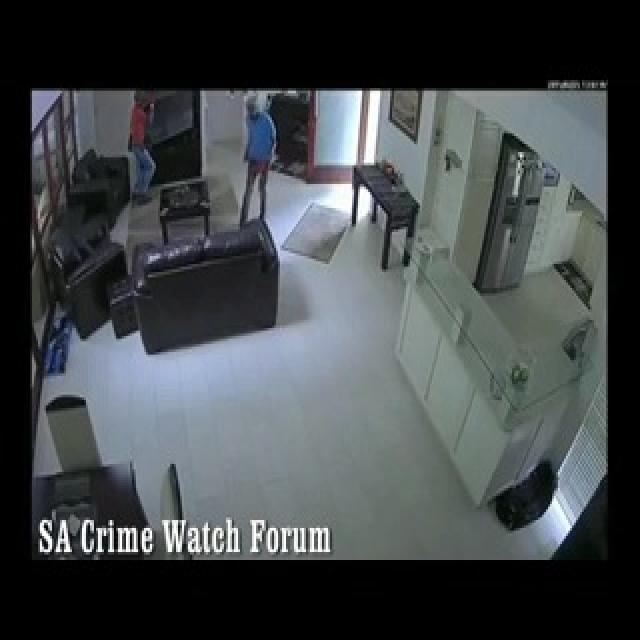thief: (222, 115, 301, 242), (110, 89, 184, 215)
